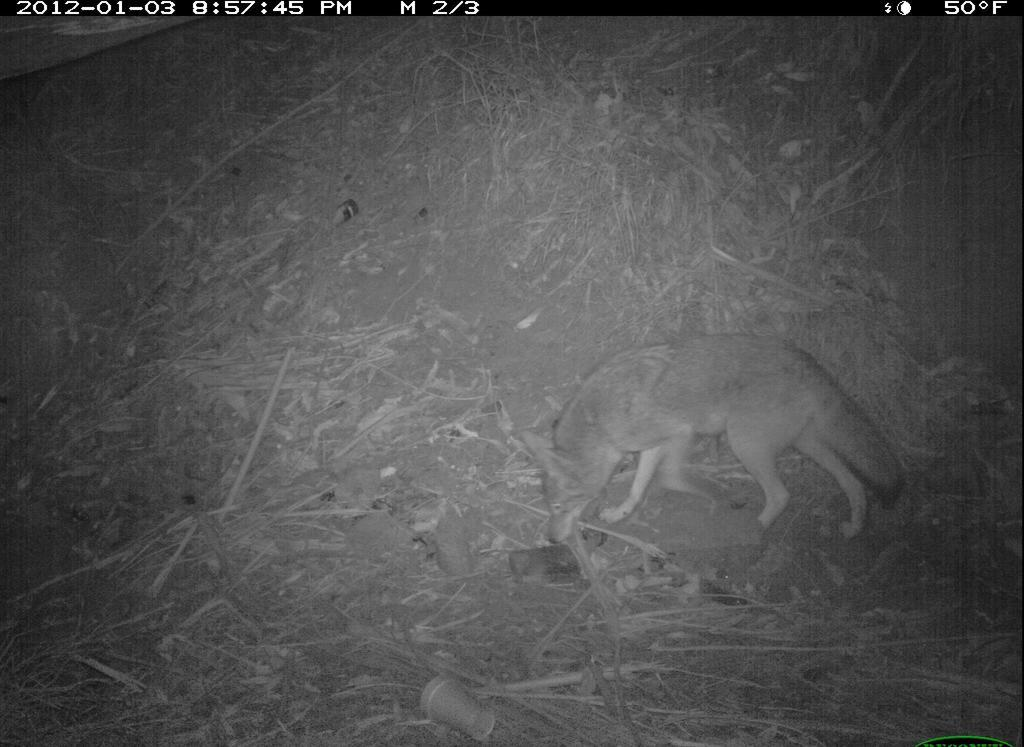coyote: (520, 303, 914, 569)
